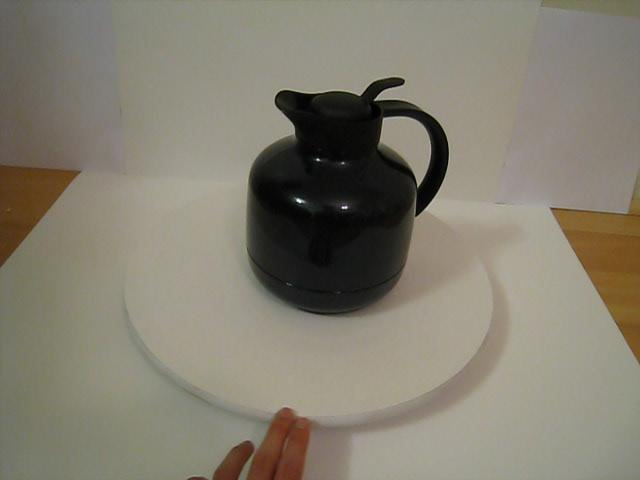pitcher: (230, 64, 454, 327)
